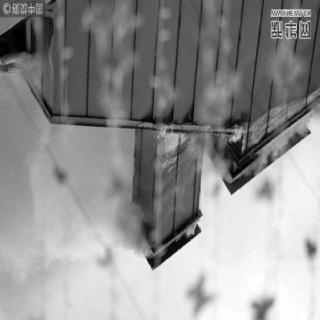Fire: (223, 117, 249, 159)
